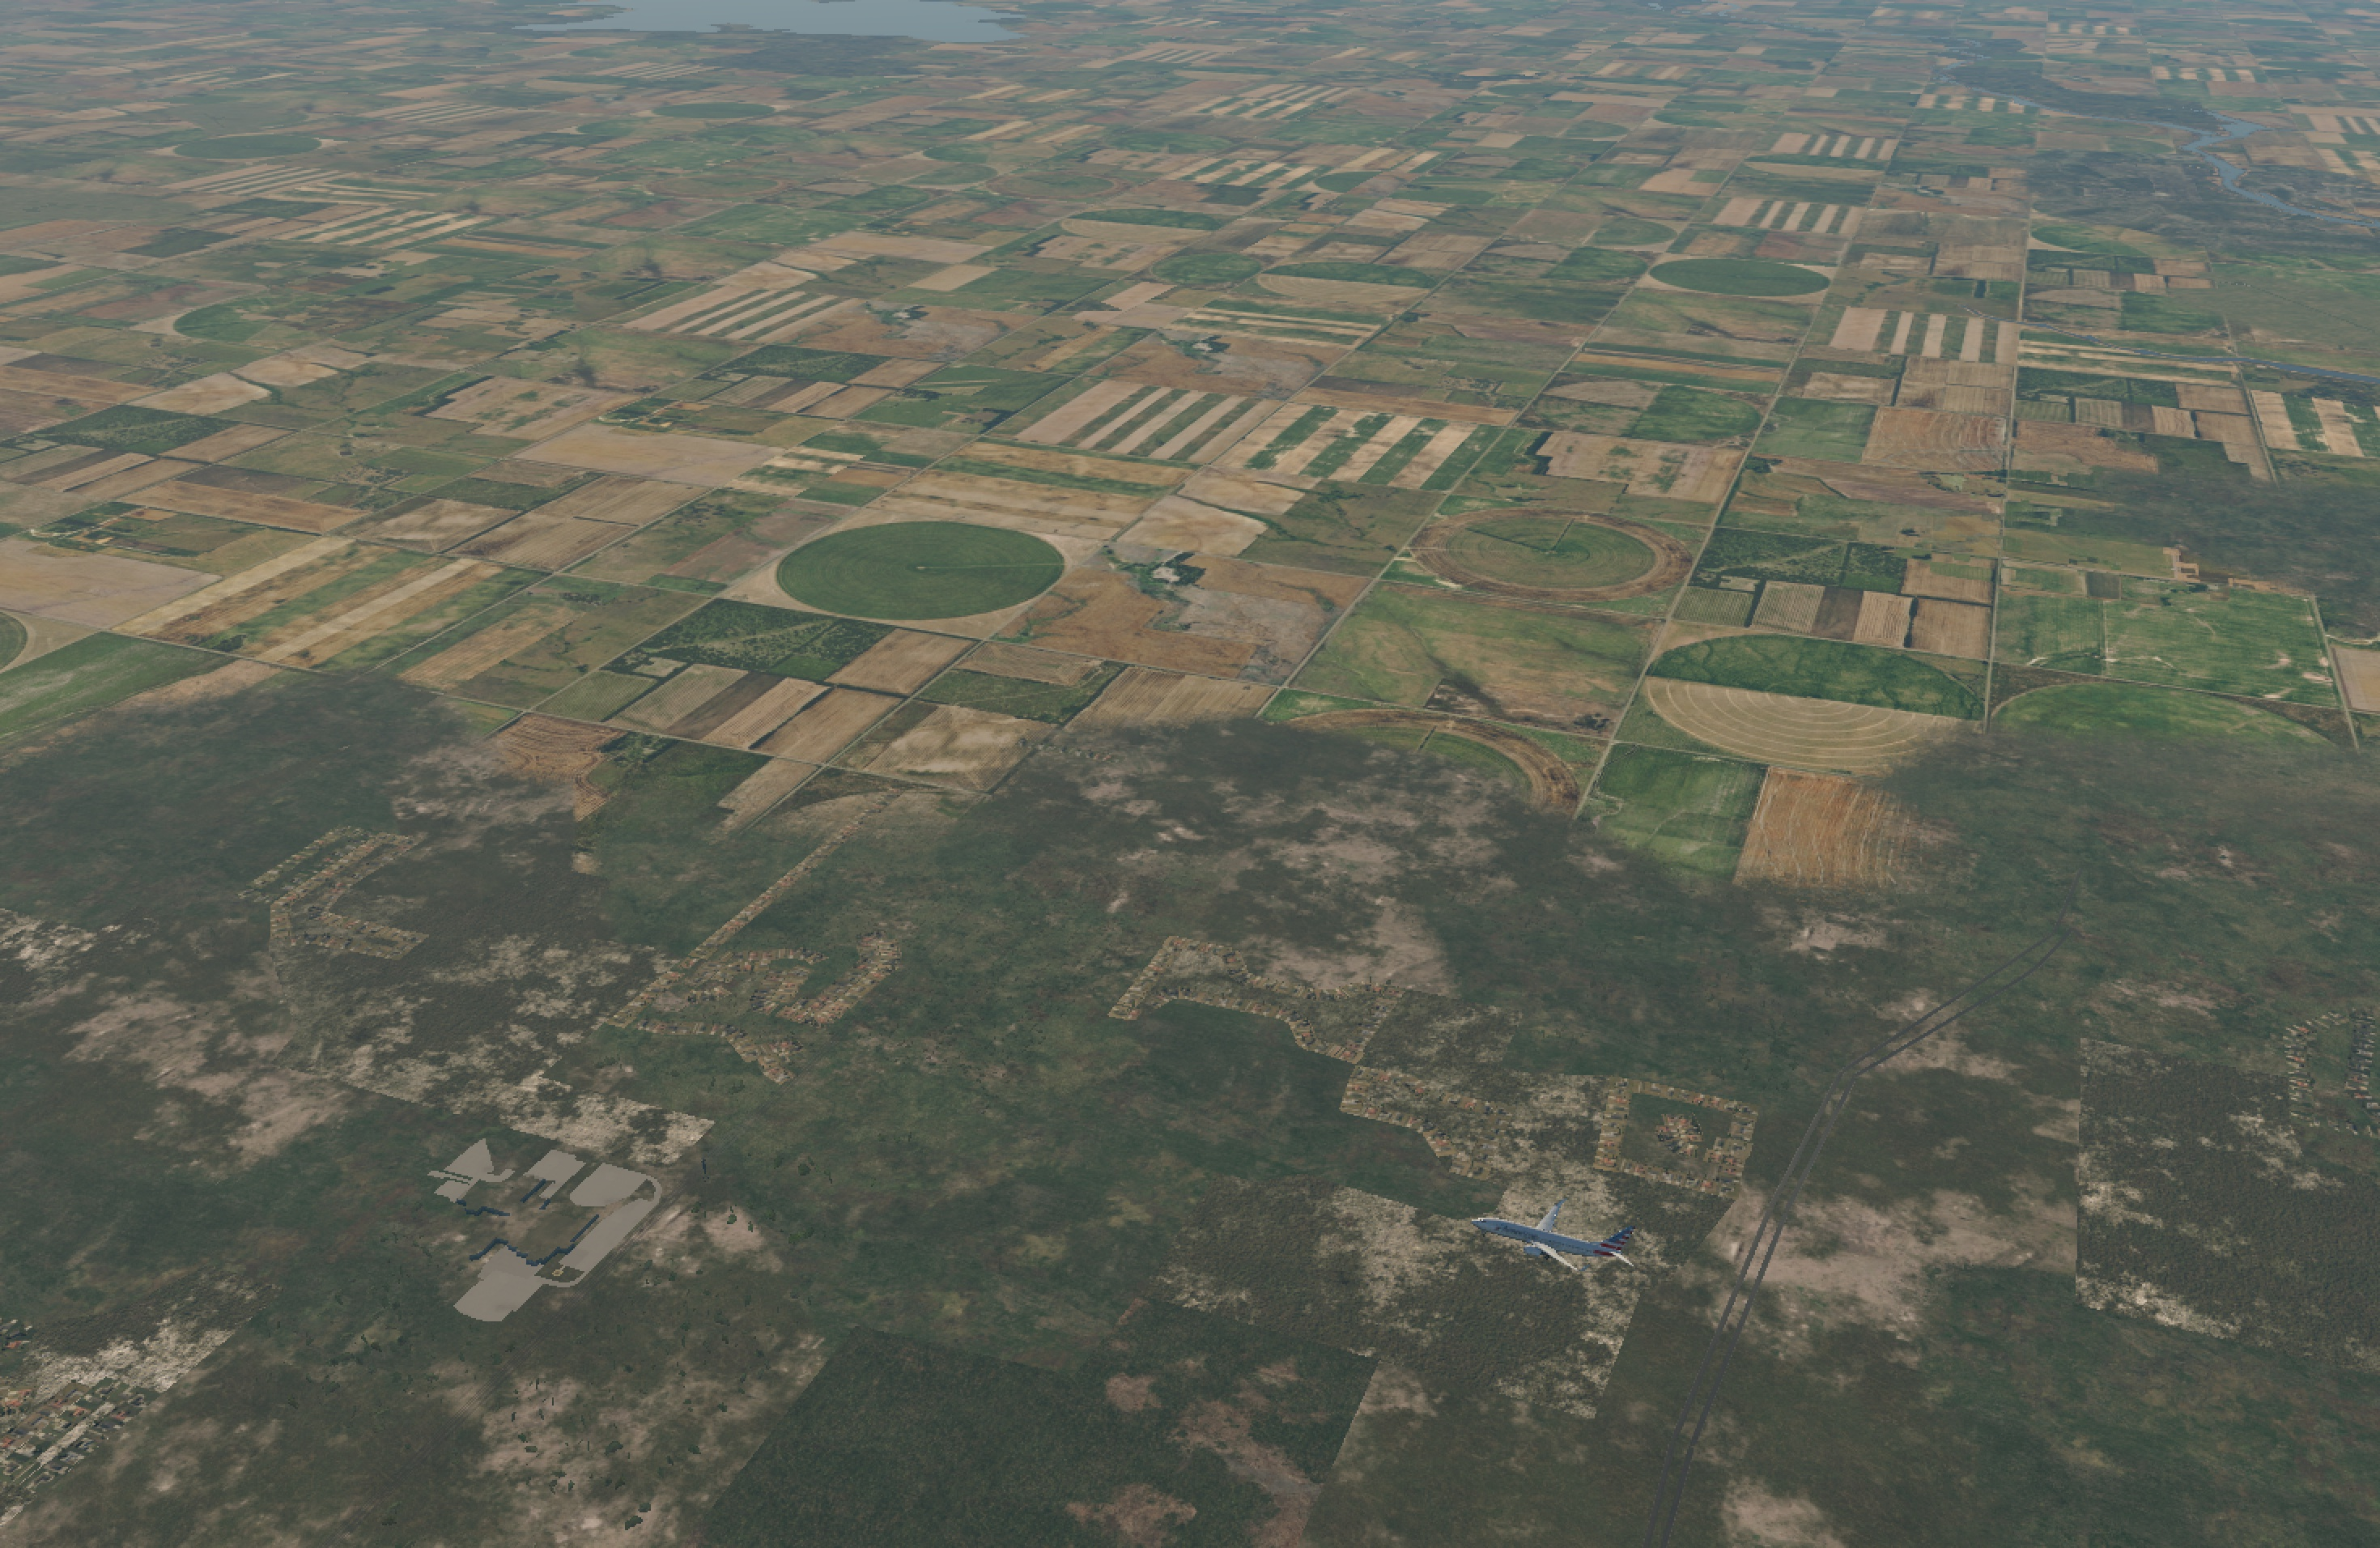aircraft: (1466, 1211, 1620, 1269)
